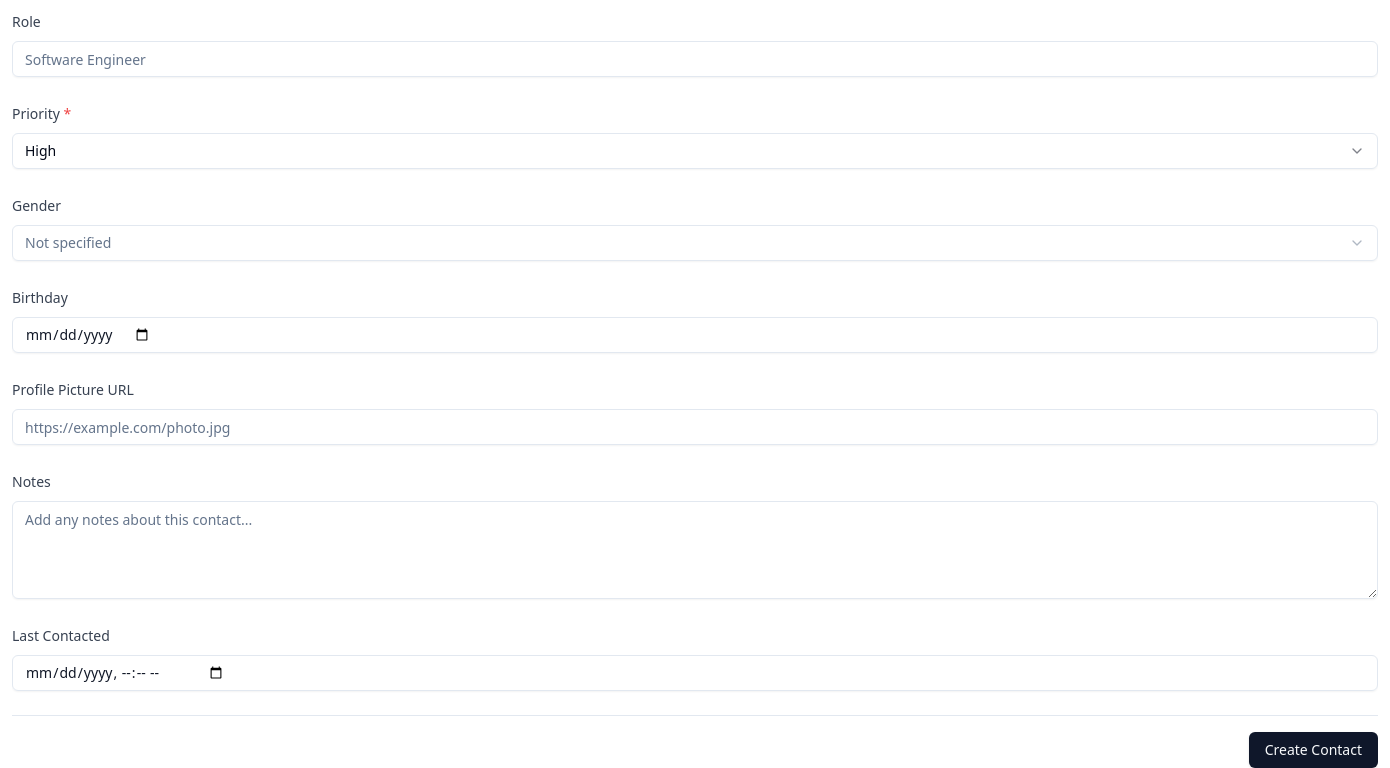
ContactForm › Create Mode › shows validation error when name is empty
This screenshot has width=1390, height=768.
(page scrolled)
Click the button "Create Contact".
click(1313, 750)  # box [1249,732,1378,767]
(page scrolled)
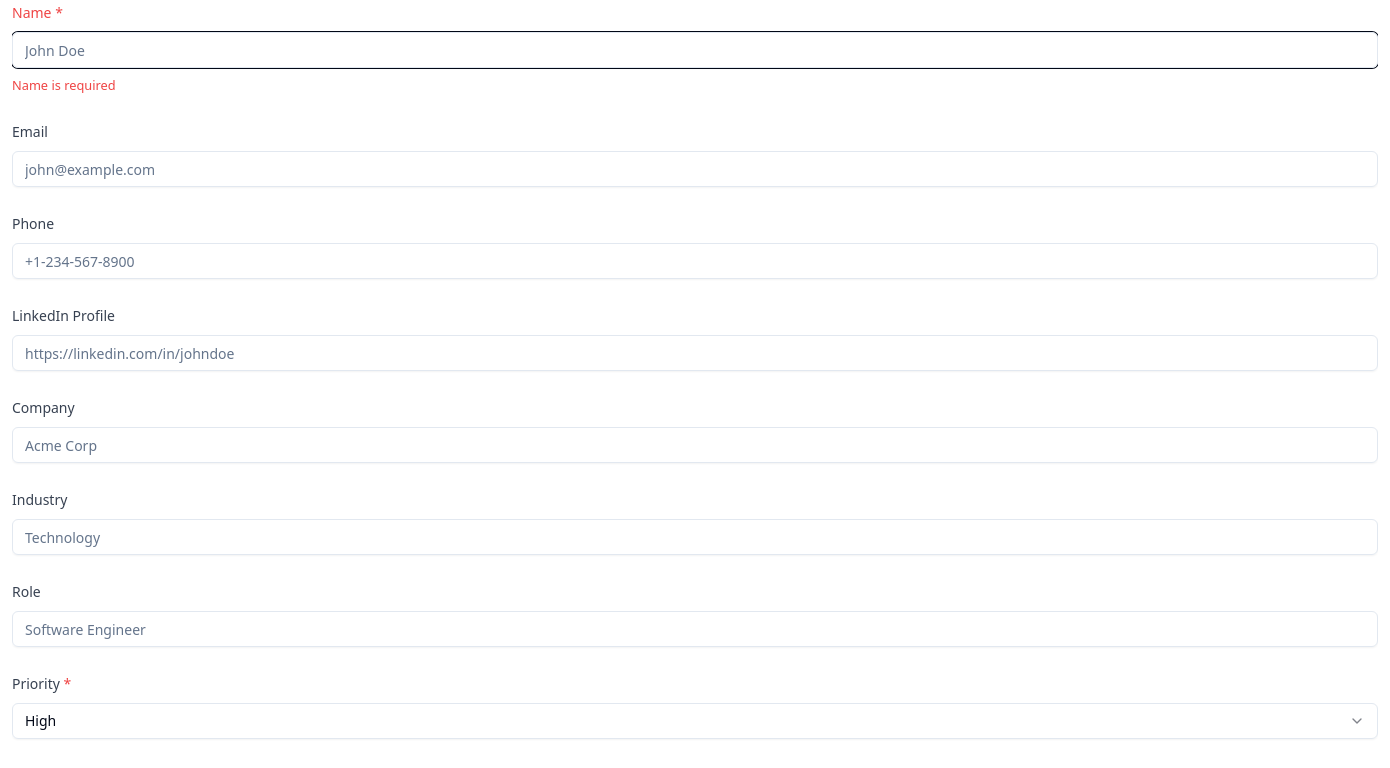
Expected: the text "Name is required" is shown, [12,76,116,94]
